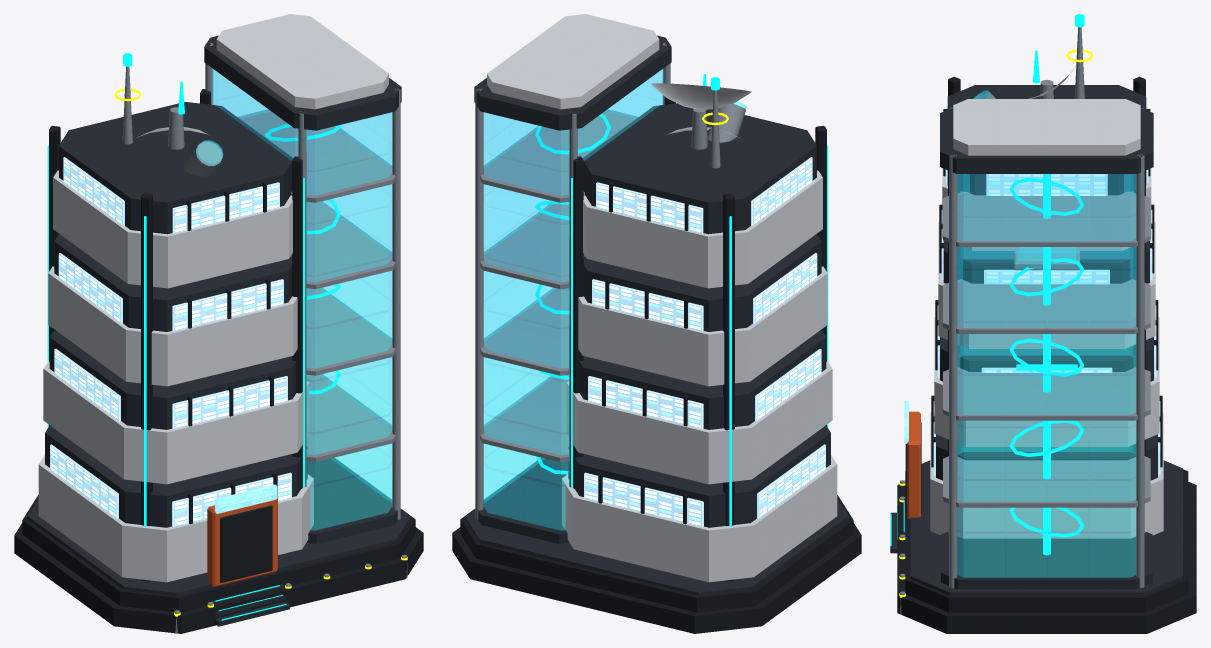
The model's file is bldg_08_winner_01.glb.
3 views of the same model, side by side, from view 1: azimuth 30°, elevation 25°; view 2: azimuth 150°, elevation 25°; view 3: azimuth 270°, elevation 25° (orthographic).
Visible parts, largest first — view 1: Bldg08_C02_aero_white, Bldg08_C02_carbon_slate, Bldg08_C02_glass_cyan, Bldg08_C02_steel_machined, Bldg08_C02_gunmetal, Bldg08_C02_window_lit, Bldg08_C02_led_cyan, Bldg08_C02_accent_orange, Bldg08_C02_marquee; view 2: Bldg08_C02_aero_white, Bldg08_C02_carbon_slate, Bldg08_C02_glass_cyan, Bldg08_C02_steel_machined, Bldg08_C02_gunmetal, Bldg08_C02_window_lit, Bldg08_C02_led_cyan; view 3: Bldg08_C02_glass_cyan, Bldg08_C02_steel_machined, Bldg08_C02_carbon_slate, Bldg08_C02_aero_white, Bldg08_C02_gunmetal, Bldg08_C02_led_cyan, Bldg08_C02_window_lit, Bldg08_C02_accent_orange.
Part boxes in pixels (<box>): Bldg08_C02_aero_white: <box>38,14,388,582</box>; Bldg08_C02_carbon_slate: <box>27,35,410,626</box>; Bldg08_C02_glass_cyan: <box>196,68,392,530</box>; Bldg08_C02_steel_machined: <box>122,42,407,633</box>; Bldg08_C02_gunmetal: <box>14,89,423,633</box>; Bldg08_C02_window_lit: <box>50,157,291,527</box>; Bldg08_C02_led_cyan: <box>47,53,340,620</box>; Bldg08_C02_accent_orange: <box>207,496,277,586</box>; Bldg08_C02_marquee: <box>215,484,277,513</box>; Bldg08_C02_aero_white: <box>487,14,837,582</box>; Bldg08_C02_carbon_slate: <box>465,35,848,595</box>; Bldg08_C02_glass_cyan: <box>483,68,746,530</box>; Bldg08_C02_steel_machined: <box>475,42,745,519</box>; Bldg08_C02_gunmetal: <box>452,97,861,633</box>; Bldg08_C02_window_lit: <box>584,157,825,527</box>; Bldg08_C02_led_cyan: <box>535,74,828,526</box>; Bldg08_C02_glass_cyan: <box>957,90,1136,577</box>; Bldg08_C02_steel_machined: <box>899,27,1150,614</box>; Bldg08_C02_carbon_slate: <box>890,85,1182,595</box>; Bldg08_C02_aero_white: <box>930,64,1163,538</box>; Bldg08_C02_gunmetal: <box>897,76,1196,633</box>; Bldg08_C02_led_cyan: <box>890,14,1084,555</box>; Bldg08_C02_window_lit: <box>933,106,1160,474</box>; Bldg08_C02_accent_orange: <box>906,411,920,518</box>.
Bounding box in the file's own units: 12 × 18.62 × 10.23.
10 materials, 10 textured.
